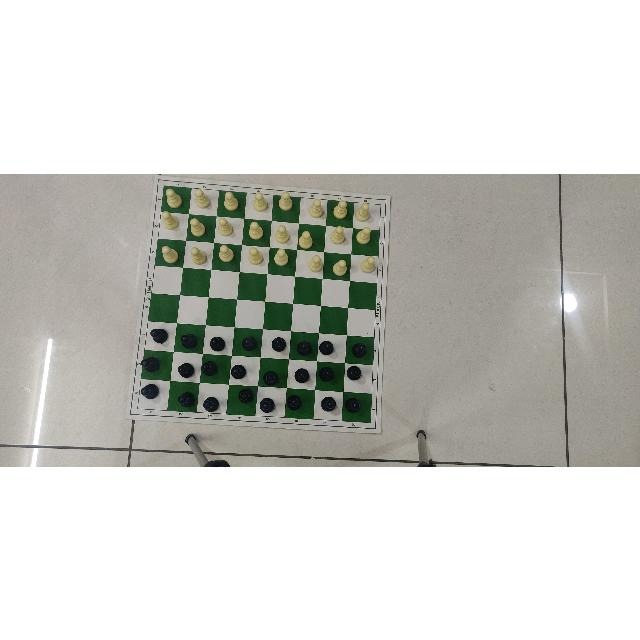black-pawn: (140, 380, 160, 399), (317, 364, 335, 384), (140, 355, 160, 373), (177, 391, 197, 409), (176, 361, 195, 379), (150, 326, 168, 344), (180, 332, 198, 350), (241, 334, 259, 352), (295, 338, 313, 356), (262, 369, 280, 387), (229, 362, 247, 380), (201, 359, 219, 377), (202, 395, 220, 413), (343, 395, 361, 413), (237, 386, 256, 403), (345, 363, 362, 381), (285, 393, 302, 411), (319, 394, 336, 412), (210, 334, 226, 351), (271, 335, 287, 352), (351, 341, 367, 358), (259, 396, 275, 413), (318, 339, 334, 355), (294, 367, 310, 383)
white-pawn: (165, 185, 183, 209), (193, 186, 211, 210), (222, 189, 239, 212), (278, 188, 294, 212), (161, 243, 179, 264), (251, 190, 268, 212), (272, 245, 289, 267), (161, 209, 179, 229), (247, 219, 264, 240), (308, 196, 324, 218), (354, 201, 370, 223), (190, 245, 208, 264), (358, 253, 375, 273), (331, 257, 348, 277), (189, 217, 206, 237), (274, 222, 290, 243), (332, 198, 347, 220), (356, 225, 372, 245), (307, 252, 323, 272), (298, 230, 314, 250), (219, 243, 235, 263), (218, 216, 234, 236), (330, 224, 346, 244), (248, 245, 264, 264)
